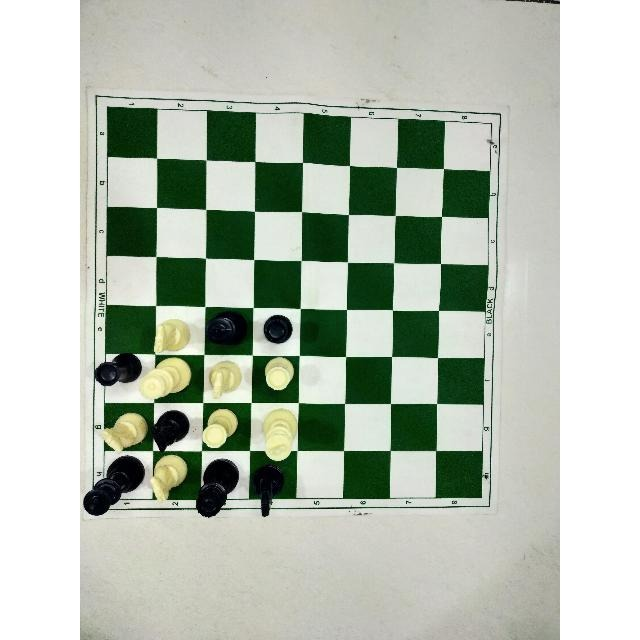black-king: (82, 454, 144, 516), (206, 310, 246, 350)
black-knight: (250, 463, 285, 517), (149, 410, 190, 454)
black-queen: (194, 456, 239, 518)
black-rook: (92, 352, 141, 386), (262, 314, 294, 346)
white-king: (260, 409, 299, 463)
white-knight: (100, 412, 148, 453), (149, 453, 189, 502), (208, 358, 242, 399), (152, 318, 191, 353)
white-queen: (138, 356, 194, 400)
white-rook: (202, 407, 238, 449), (263, 355, 294, 393)
